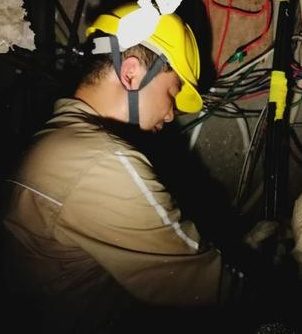hard-hat: (84, 1, 203, 114)
